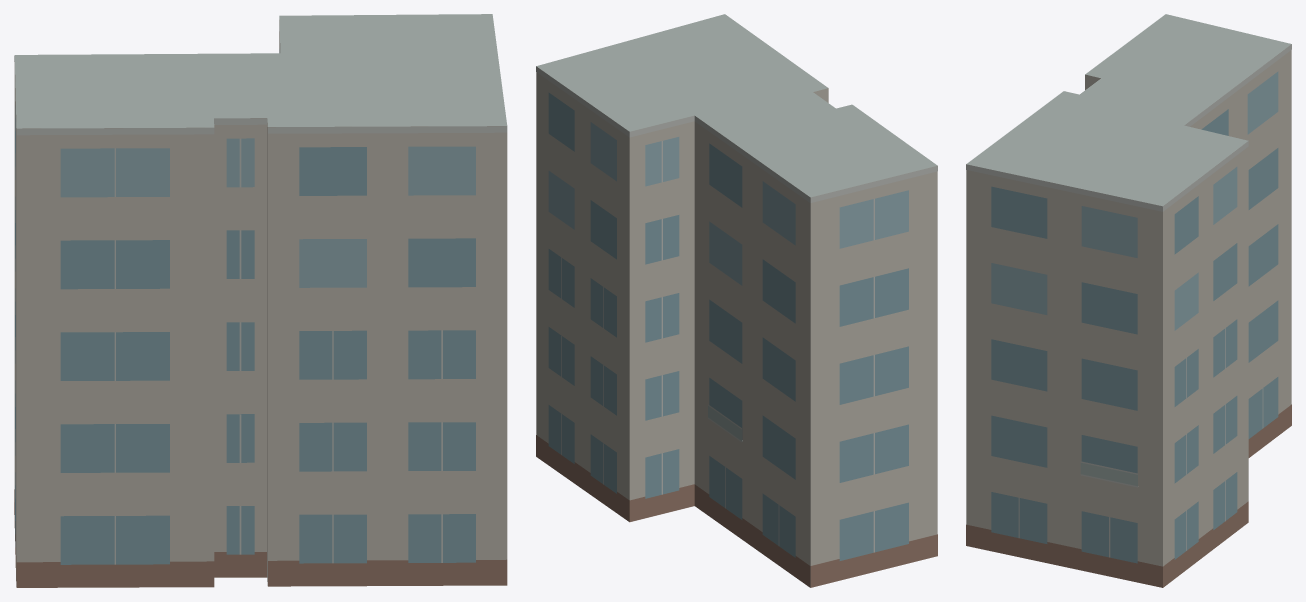
Rendered from survey-upis-32887837.glb.
The picture shows the model from 3 angles, left to right: view 1: azimuth 30°, elevation 25°; view 2: azimuth 150°, elevation 25°; view 3: azimuth 270°, elevation 25°; orthographic projection. The views are drawn at different scales.
Parts seen in each view (by area): view 1: survey-upis-32887837.tmp; view 2: survey-upis-32887837.tmp; view 3: survey-upis-32887837.tmp.
Part boxes in pixels (x1=…): survey-upis-32887837.tmp: x1=14, y1=14, x2=507, y2=587; survey-upis-32887837.tmp: x1=536, y1=14, x2=937, y2=587; survey-upis-32887837.tmp: x1=966, y1=14, x2=1291, y2=587.
Size of the model in its own units: 18 by 16.65 by 12.89.
